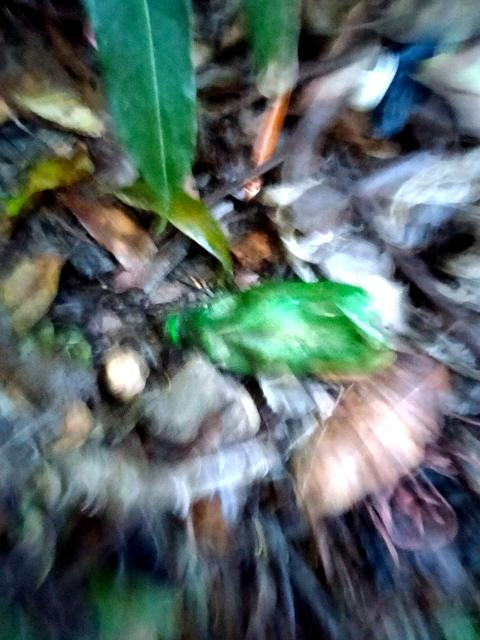bottle: (143, 247, 395, 392)
